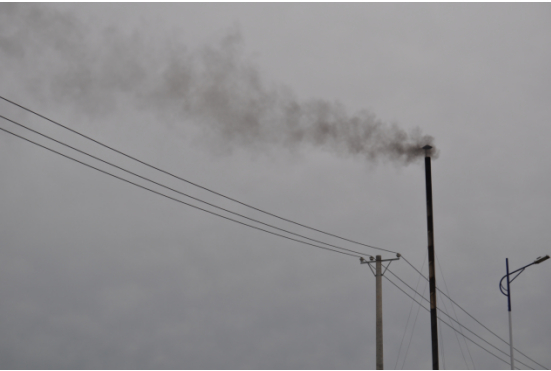smoke: (260, 89, 438, 164)
